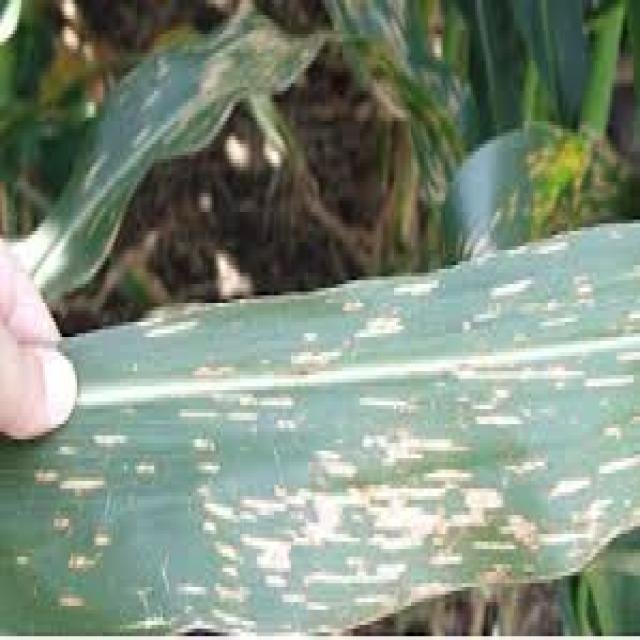Corn_Grey_Leaf_Spot: (113, 204, 640, 640)
